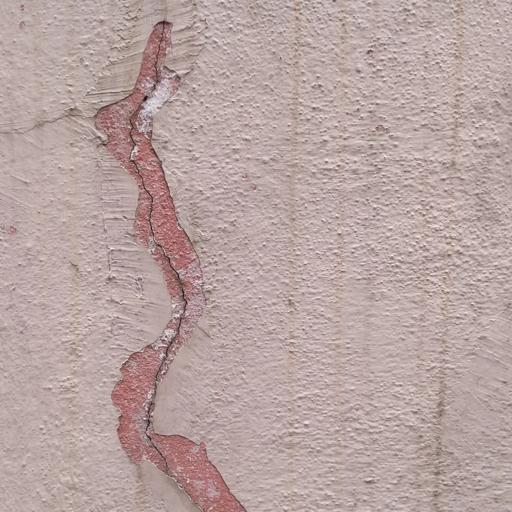peeling: (75, 8, 270, 512)
